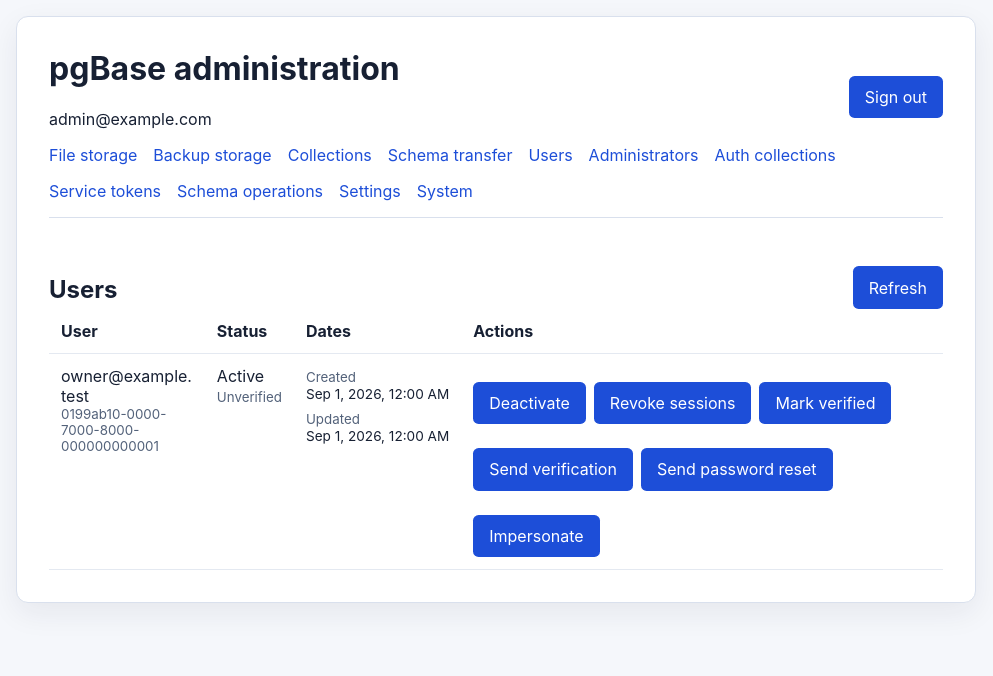
users page › lists bounded users and deactivates only after confirmation
This screenshot has width=993, height=676.
Expected: the text "owner@example.test" is shown, [61,366,193,406]
Click the button "Deactivate": (530, 403) [473,382,586,424]
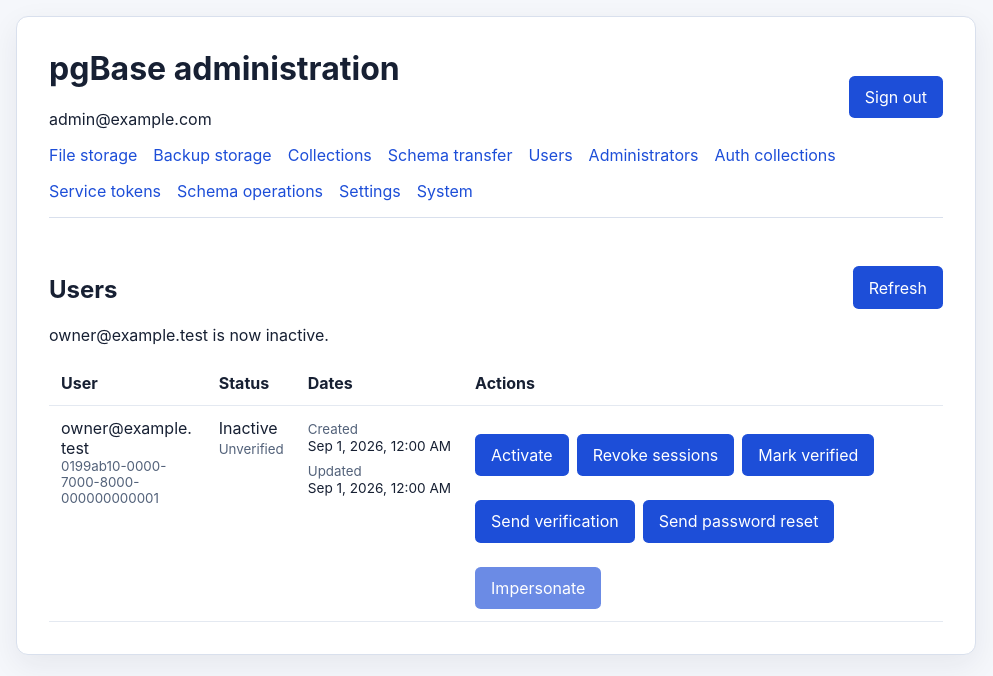
Now the text "Inactive" is shown, box [219,418,278,438]
